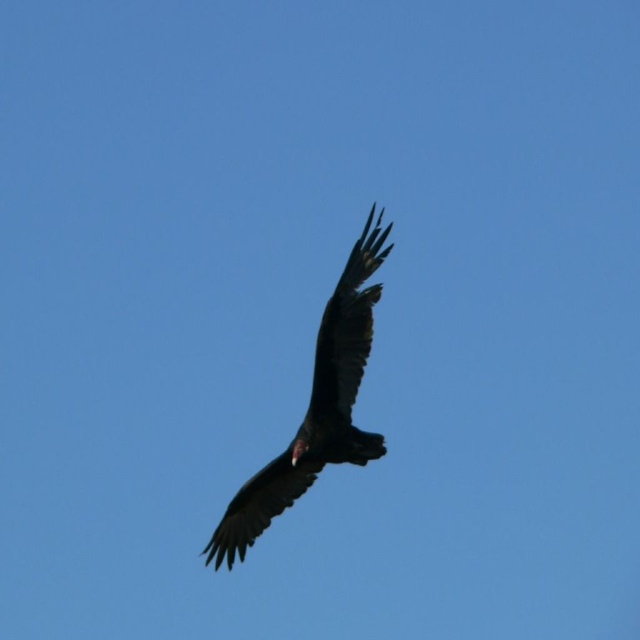Eagle: (198, 201, 395, 573)
